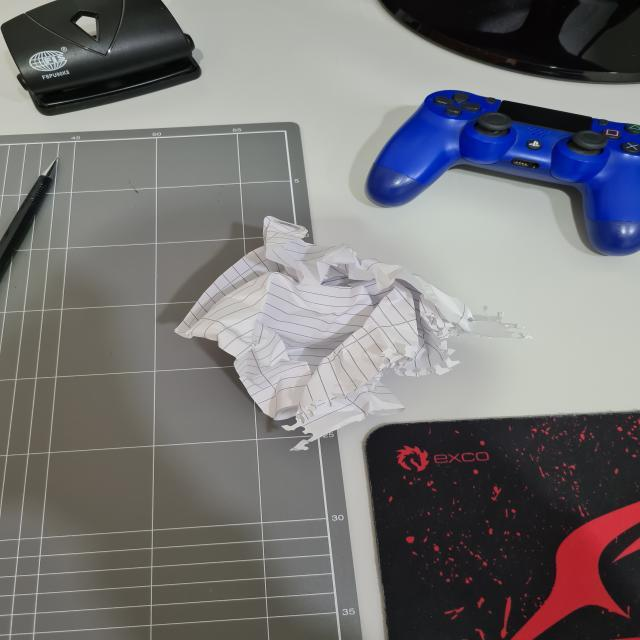Paper: (182, 208, 482, 452)
